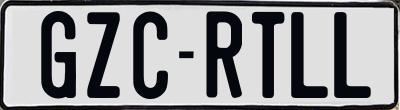C: (131, 11, 166, 103)
G: (40, 11, 77, 102)
L: (334, 10, 375, 99), (291, 12, 332, 98)
R: (204, 9, 245, 98)
T: (252, 11, 288, 97)
Z: (86, 9, 124, 99)
